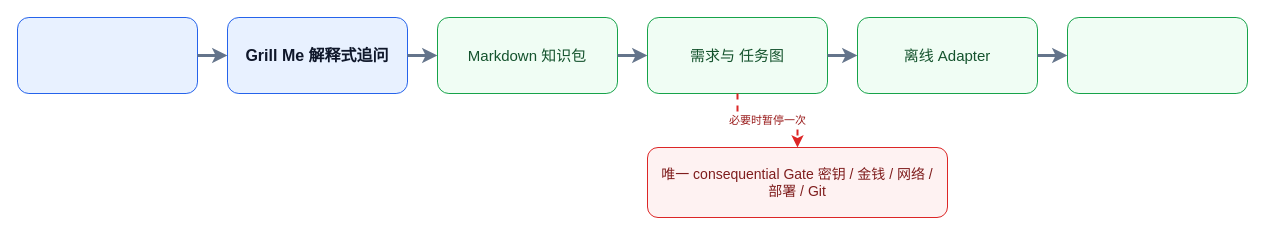
This 1265x235 diagram has some shape labels left out. Each missing label, with the centre of its shape:
"一句中文想法" belongs at pixel 107 55.
"验证 · 报告 · Requeue" belongs at pixel 1157 55.
